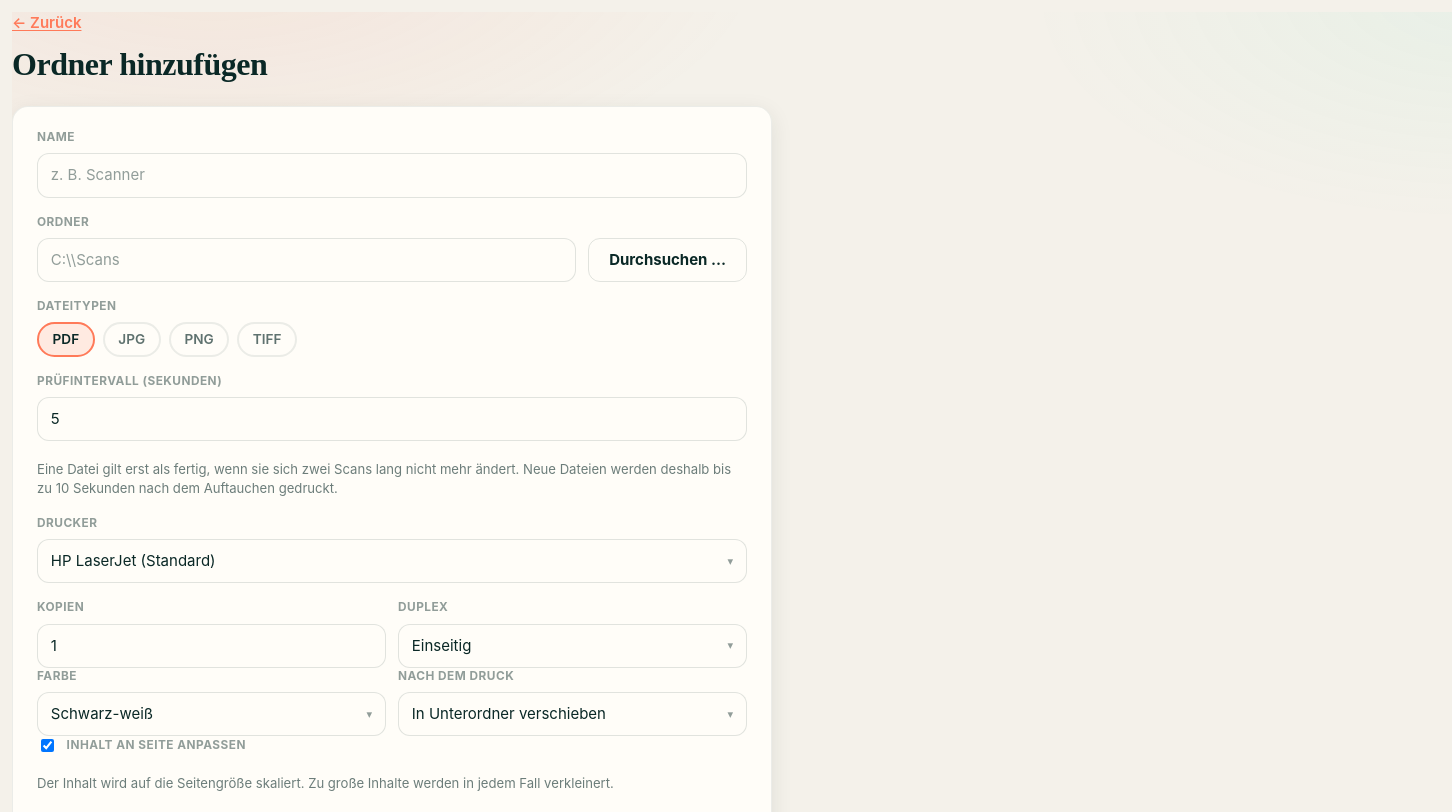
Test: FolderDialog form › uses the native folder picker
Click the button "Durchsuchen …".
click(668, 260)  # box [588, 238, 747, 282]
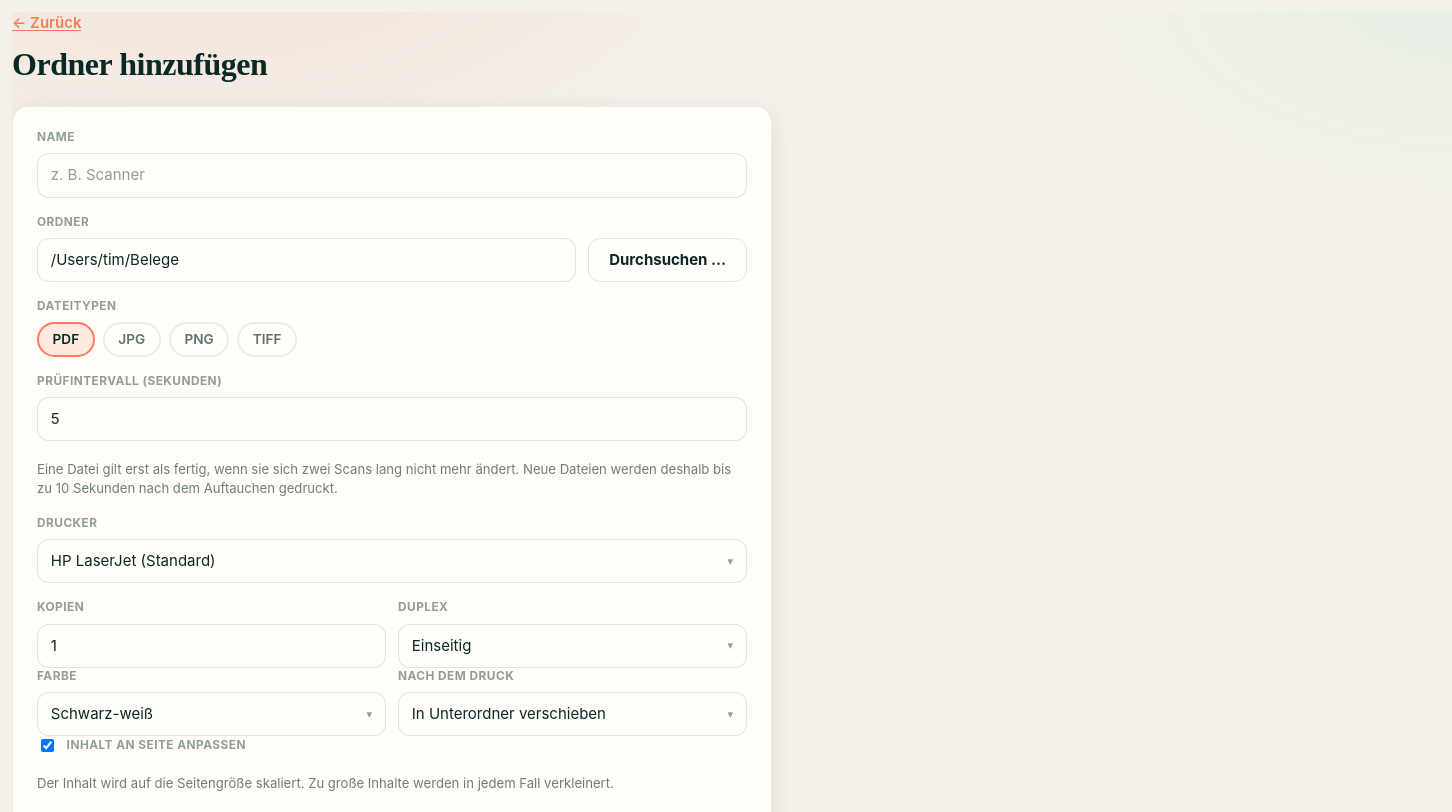
Expected: the field labelled "Ordner" holds "/Users/tim/Belege", [37, 238, 576, 282]
